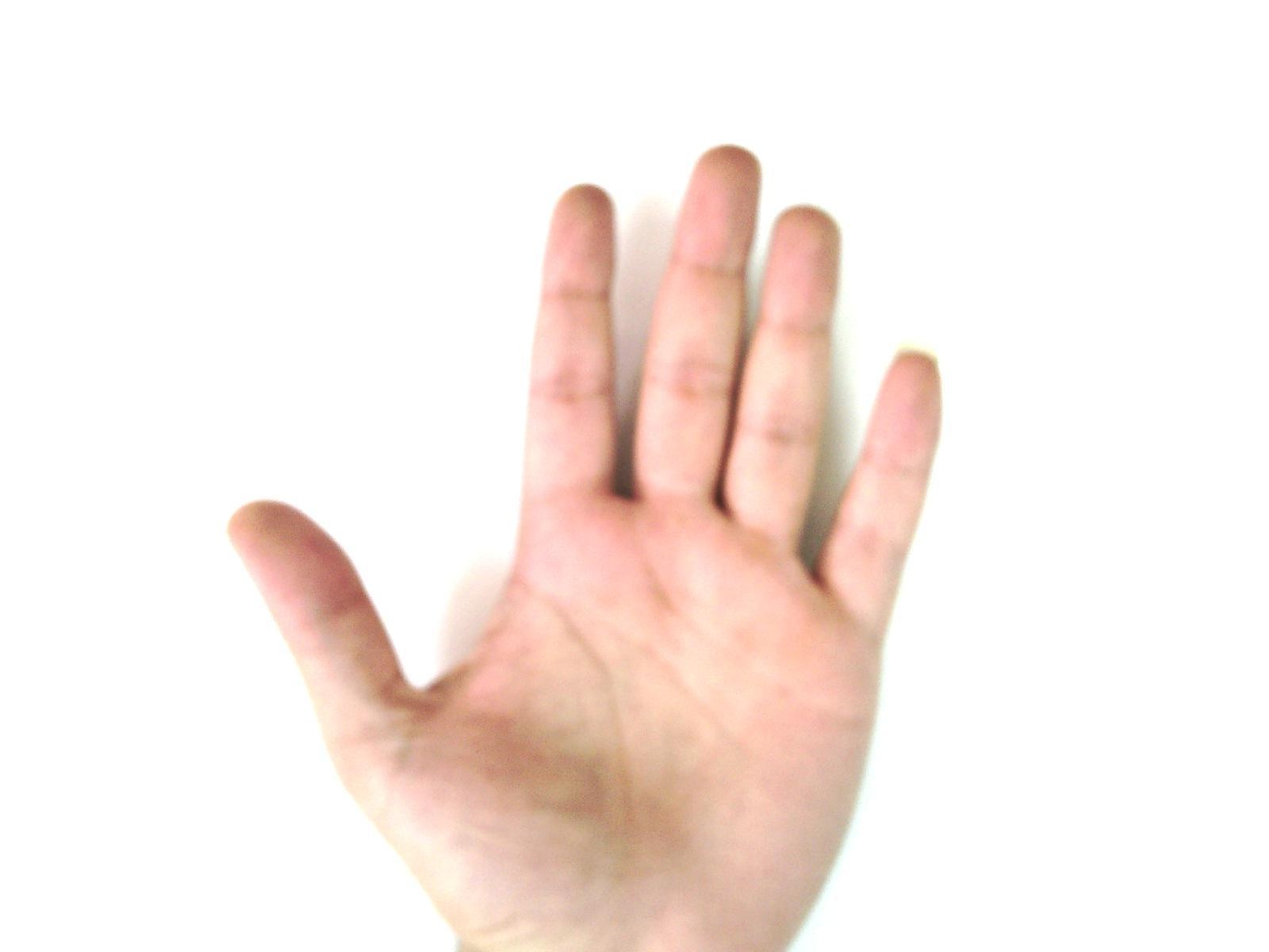open_palm: (226, 144, 946, 951)
